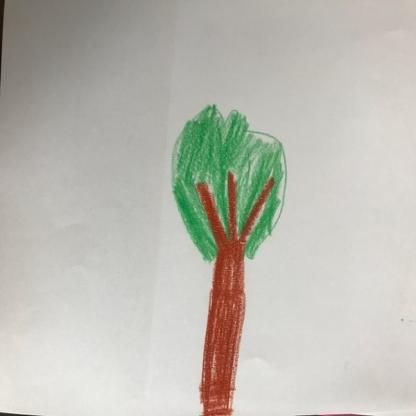branch_cut: (190, 167, 276, 247)
crown_mushroom: (166, 101, 289, 259)
trunk_straight: (198, 260, 249, 390)
